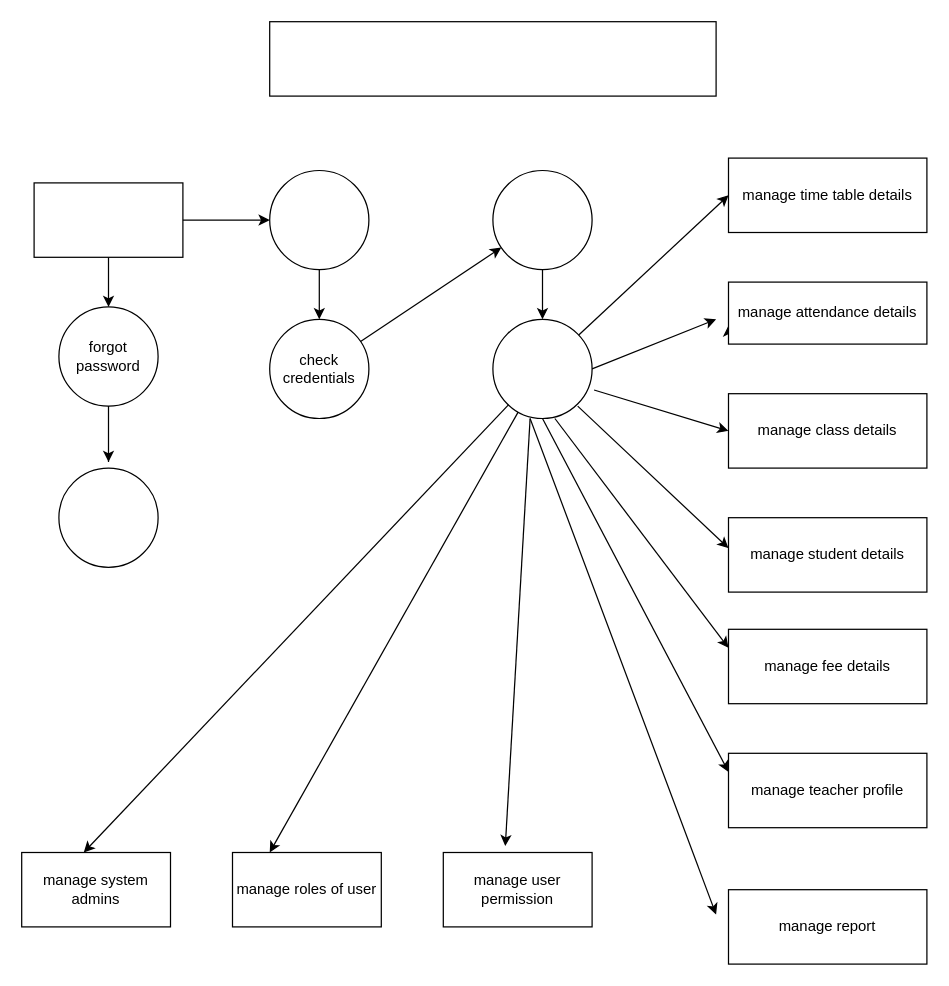
The diagram is 949 pixels wide and 986 high, and some of its shapes have lost their labels. The centre of each missing label's shape, as x and y in pixels:
admin: point (108, 219)
check roles of access: point (542, 219)
login to system: point (318, 219)
manage modules: point (542, 368)
send email to user: point (108, 517)
student information system: point (492, 58)
